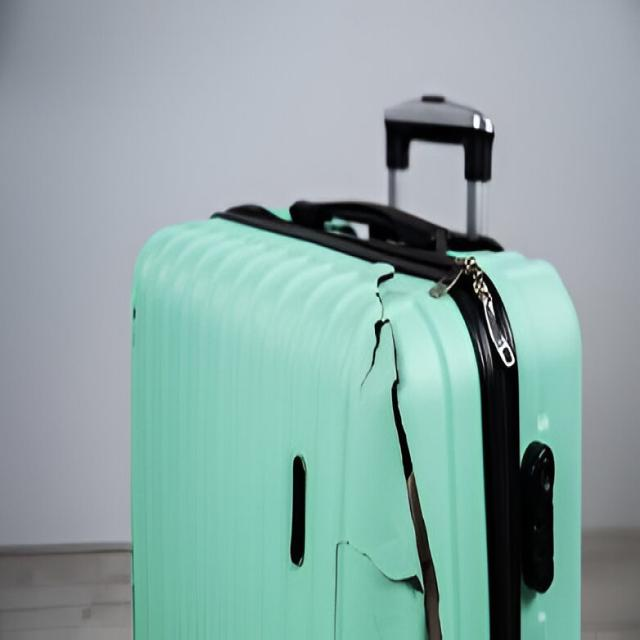Damage-bag: (335, 274, 442, 638)
